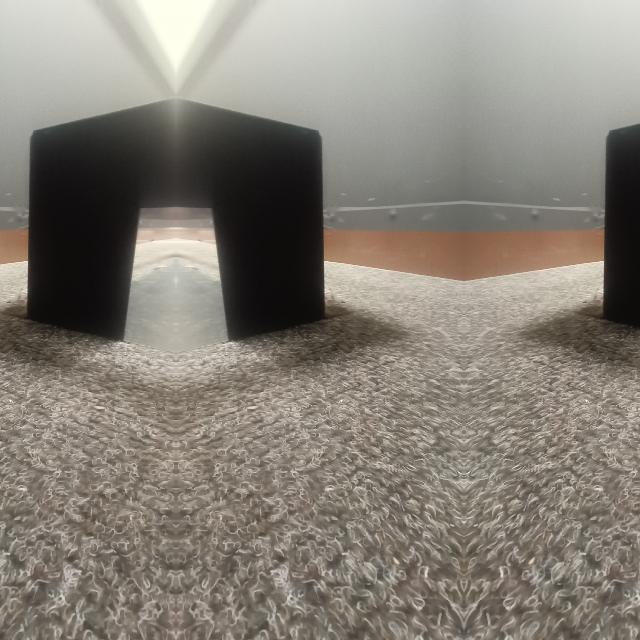obstacle: (180, 101, 324, 343), (26, 101, 170, 343), (603, 101, 640, 343)
